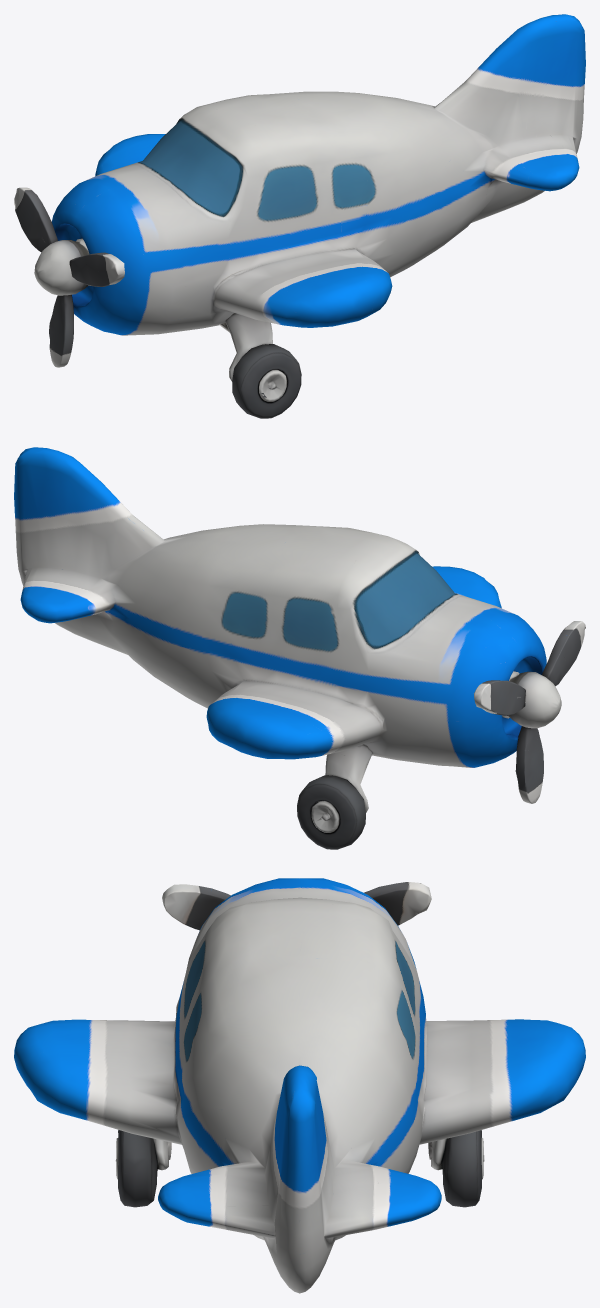
Rendered from 16_Airplane_textured.glb.
3 views of the same model, one above another, from view 1: azimuth 30°, elevation 25°; view 2: azimuth 150°, elevation 25°; view 3: azimuth 270°, elevation 25° (orthographic). The views are drawn at different scales.
Parts seen in each view (by area): view 1: geometry_0; view 2: geometry_0; view 3: geometry_0.
Part boxes in pixels (<box>): geometry_0: <box>14,14,585,418</box>; geometry_0: <box>14,447,585,849</box>; geometry_0: <box>14,878,585,1293</box>.
Size of the model in its own units: 0.9526 by 0.4473 by 0.6685.
Materials: 1 (1 with a texture image).
